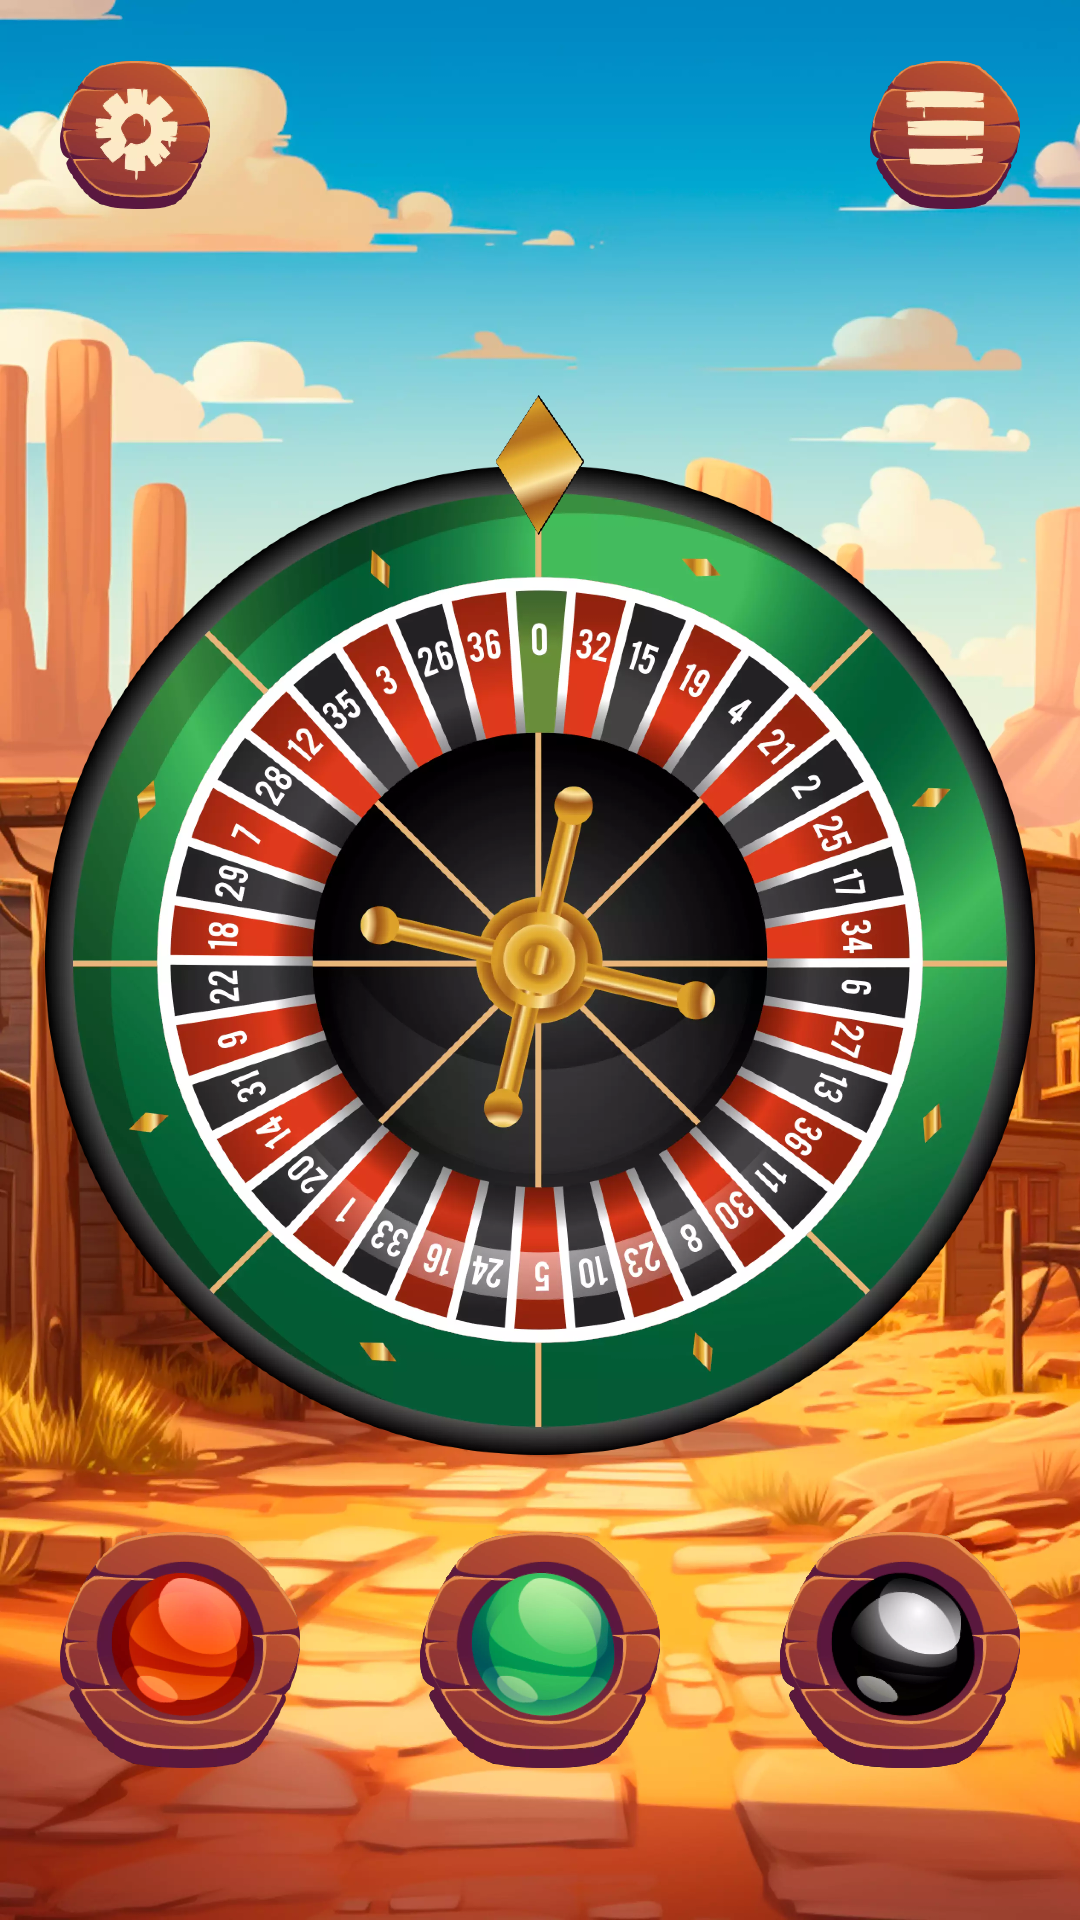

Icon click points for this 1080x1920 phone screenshot, format (x,y):
settings wild west: (135,135)
